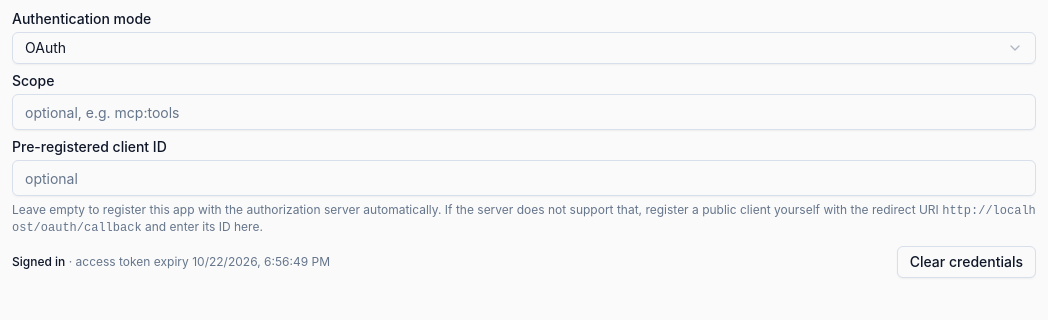
Test: AuthPanel › Clear credentials deletes this profile's OAuth keys, shows "Credentials cleared" and flips the status
Check: the text "Signed in" is shown, box [12,254,65,269]
Click the button "Clear credentials".
click(966, 262)  # box [897,246,1036,278]
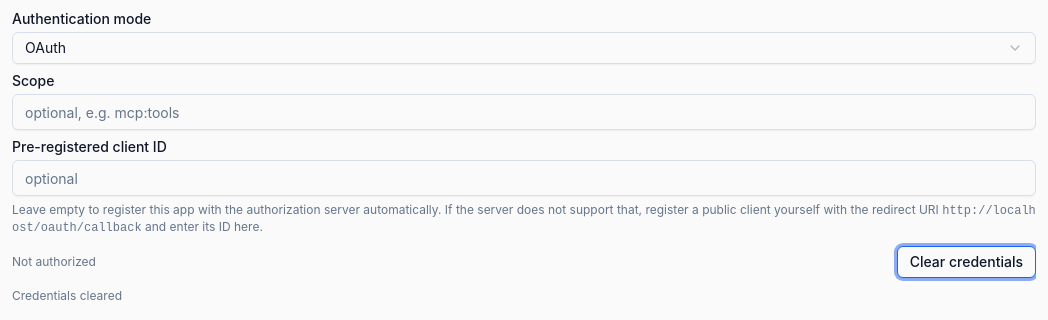
Check: the text "Credentials cleared" is shown, box [12,288,122,303]
Check: the text "Not authorized" is shown, box [12,254,96,269]
